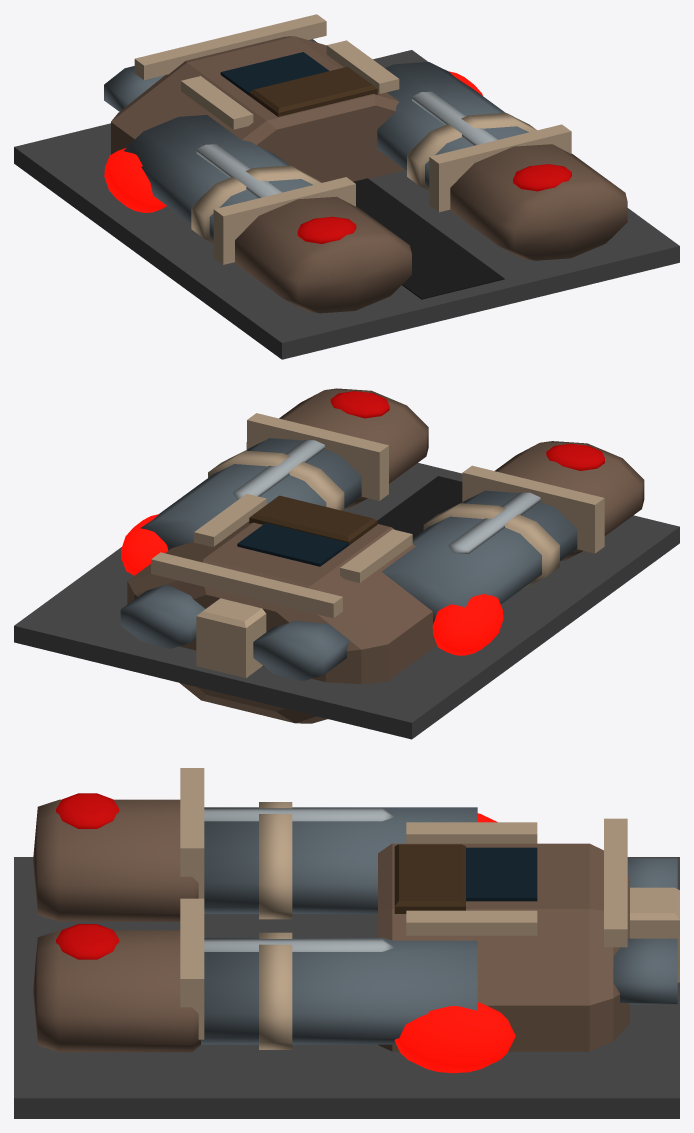
Rendered from newshp-271.glb.
The picture shows the model from 3 angles, top to bottom: view 1: azimuth 30°, elevation 25°; view 2: azimuth 150°, elevation 25°; view 3: azimuth 270°, elevation 25°; orthographic projection. The views are drawn at different scales.
Visible parts, largest first — view 1: newshp-271; view 2: newshp-271; view 3: newshp-271.
Part boxes in pixels (x1,y1,x2,y2): newshp-271: [14, 14, 679, 359]; newshp-271: [14, 388, 679, 739]; newshp-271: [14, 768, 679, 1118].
Bounding box in the file's own units: 2 × 0.6988 × 2.33.
